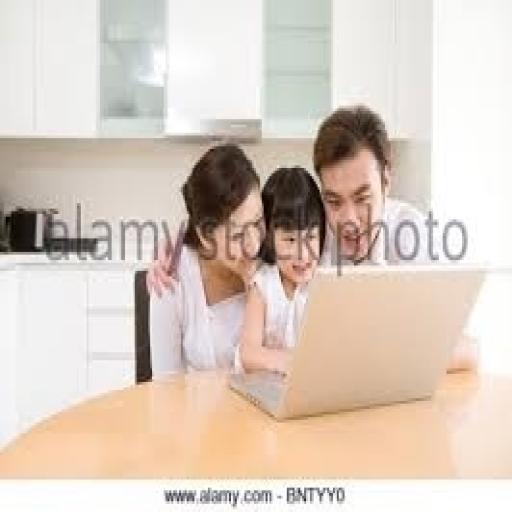using_laptop: (227, 262, 489, 422)
